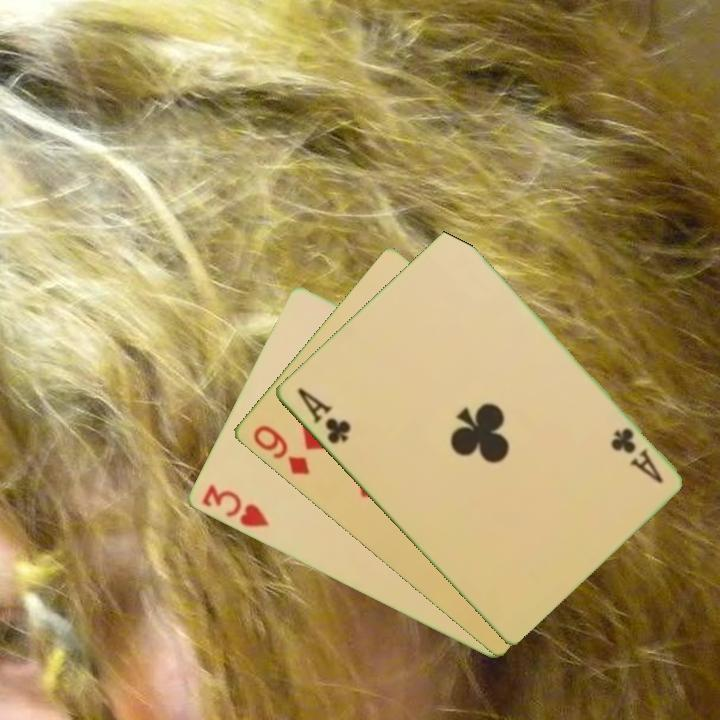3h: (198, 480, 272, 530)
9d: (249, 421, 312, 478)
Ac: (606, 423, 666, 487), (293, 384, 353, 447)
